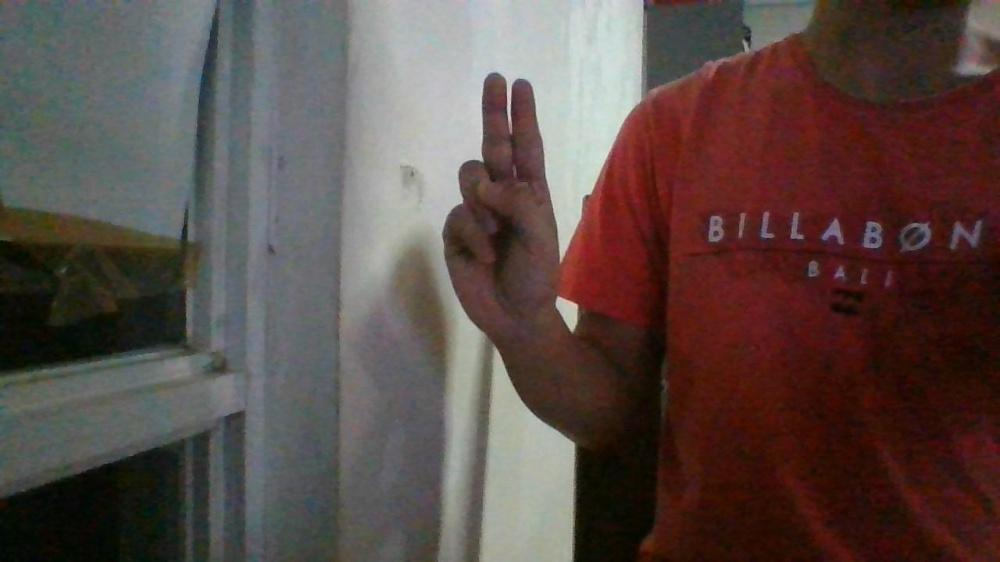u: (441, 70, 561, 336)
